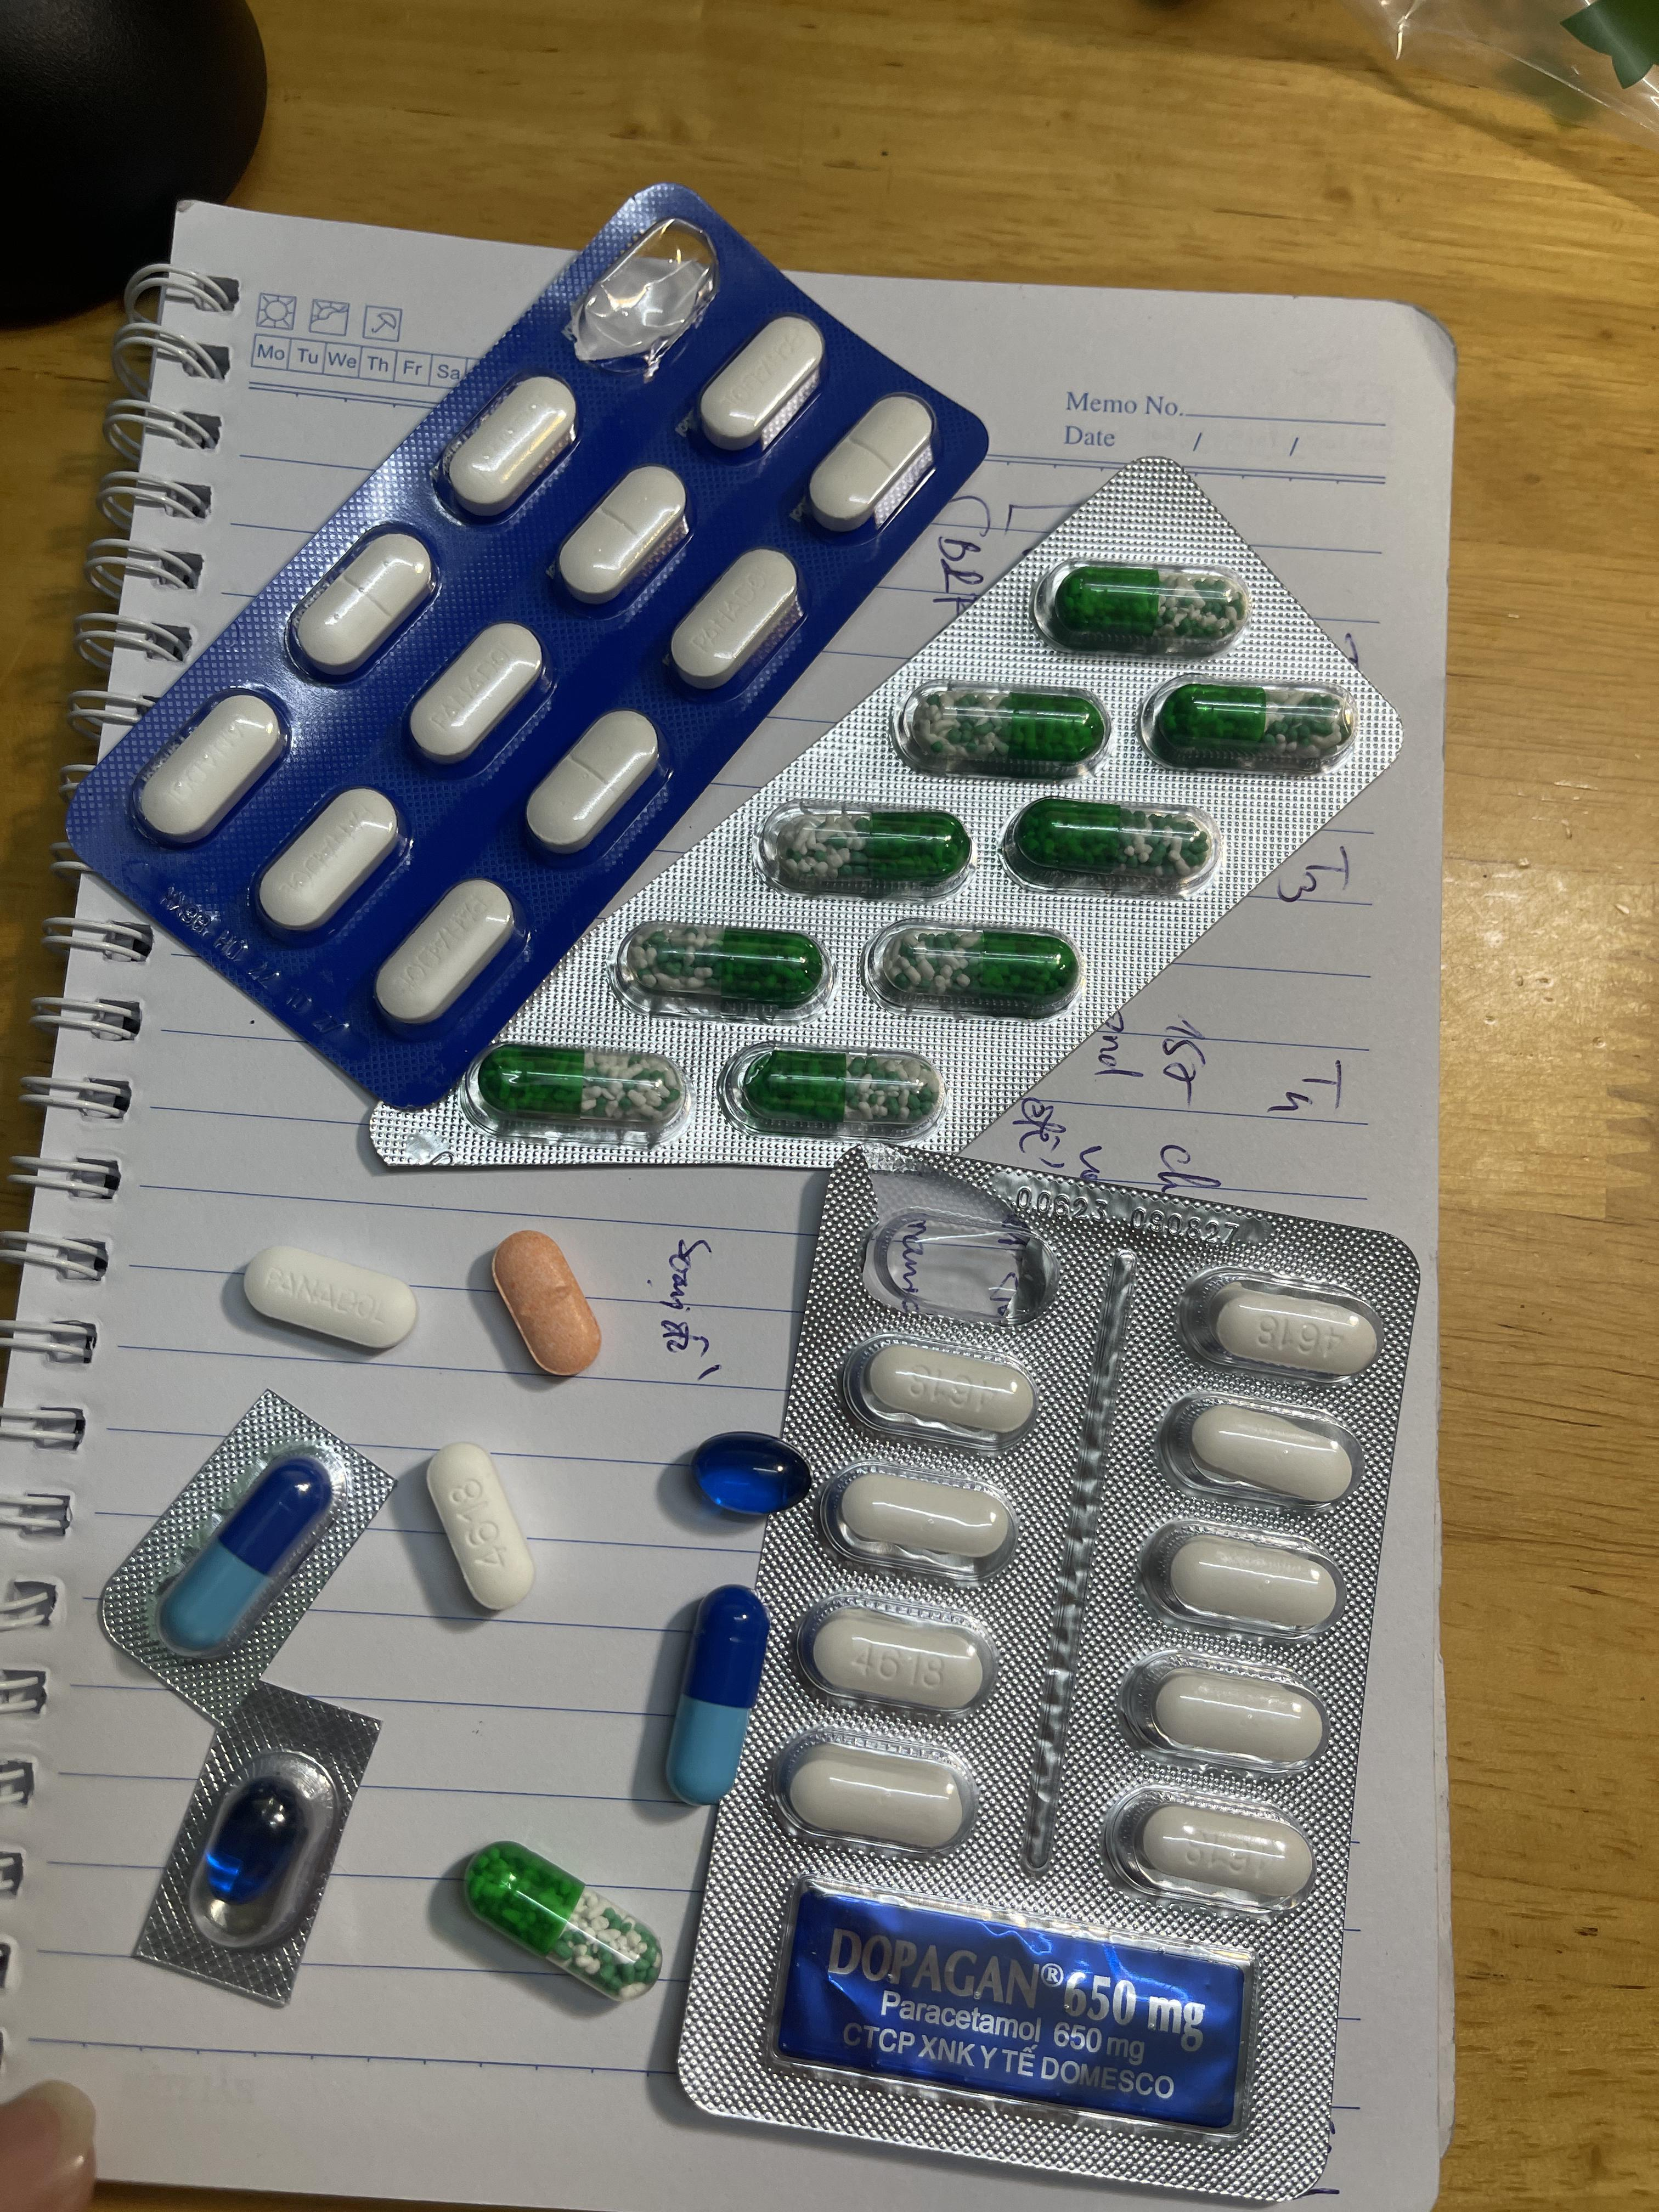Lincomyxin_500mg: (199, 1782, 301, 1907), (690, 1435, 810, 1517)
Loratadine_10mg: (488, 1231, 603, 1378)
Paracetamol_350mg: (138, 688, 288, 841), (289, 528, 437, 683), (254, 787, 404, 935), (375, 878, 519, 1026), (404, 622, 547, 770), (526, 714, 667, 859), (556, 465, 694, 608), (444, 374, 580, 517), (244, 1244, 422, 1352), (669, 547, 798, 693), (807, 395, 936, 529), (697, 310, 817, 451)
Paracetamol_500mg: (1145, 1521, 1345, 1635), (777, 1738, 974, 1855), (1129, 1658, 1328, 1771), (1124, 1796, 1319, 1905), (1166, 1397, 1359, 1507), (803, 1601, 990, 1714), (831, 1465, 1018, 1575), (1183, 1278, 1380, 1378), (854, 1339, 1035, 1442), (425, 1442, 537, 1606)
Paracetamol_650mg: (464, 1846, 655, 1998), (629, 925, 821, 1010), (739, 1049, 938, 1130), (477, 1045, 680, 1120), (1016, 801, 1208, 880), (885, 928, 1073, 1007), (777, 813, 962, 888), (1056, 566, 1237, 641), (1157, 685, 1347, 756), (917, 691, 1101, 765)
pill: (159, 1456, 335, 1651), (662, 1588, 767, 1801)
